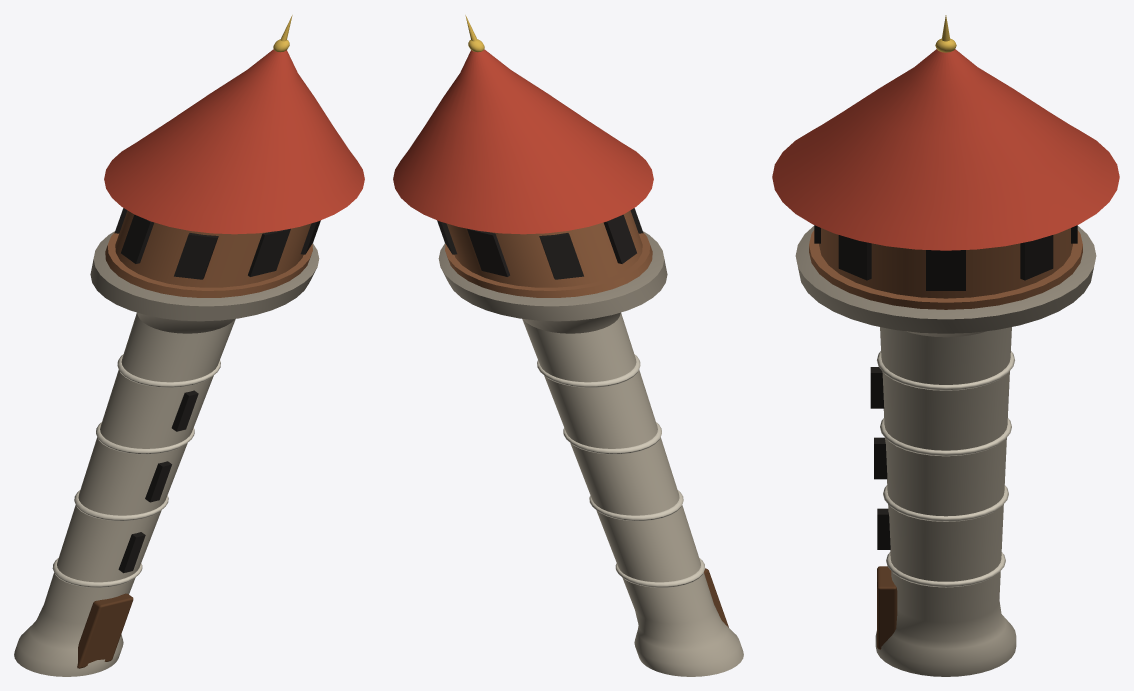
File: original.glb
The picture shows the model from 3 angles, left to right: view 1: azimuth 30°, elevation 25°; view 2: azimuth 150°, elevation 25°; view 3: azimuth 270°, elevation 25°; orthographic projection. The views are drawn at different scales.
Parts seen in each view (by area): view 1: Roof, Tower shaft, Timber belfry, Corbelled gallery, Belfry openings, Stone bands, Door, Arrow slits; view 2: Roof, Tower shaft, Timber belfry, Corbelled gallery, Belfry openings, Stone bands; view 3: Roof, Tower shaft, Timber belfry, Corbelled gallery, Belfry openings, Stone bands, Arrow slits, Door.
Boxes of the visible parts, x1=… form: Roof: x1=104, y1=49, x2=364, y2=234; Tower shaft: x1=14, y1=313, x2=235, y2=676; Timber belfry: x1=105, y1=210, x2=312, y2=297; Corbelled gallery: x1=90, y1=231, x2=319, y2=333; Belfry openings: x1=114, y1=208, x2=320, y2=279; Stone bands: x1=52, y1=354, x2=220, y2=587; Door: x1=77, y1=593, x2=133, y2=668; Arrow slits: x1=118, y1=390, x2=198, y2=573; Roof: x1=393, y1=49, x2=653, y2=234; Tower shaft: x1=522, y1=313, x2=743, y2=676; Timber belfry: x1=445, y1=210, x2=652, y2=297; Corbelled gallery: x1=438, y1=231, x2=667, y2=333; Belfry openings: x1=437, y1=208, x2=643, y2=279; Stone bands: x1=537, y1=354, x2=705, y2=587; Roof: x1=772, y1=49, x2=1119, y2=250; Tower shaft: x1=875, y1=327, x2=1016, y2=676; Timber belfry: x1=809, y1=228, x2=1082, y2=309; Corbelled gallery: x1=795, y1=226, x2=1096, y2=337; Belfry openings: x1=814, y1=225, x2=1077, y2=290; Stone bands: x1=877, y1=351, x2=1014, y2=587; Arrow slits: x1=870, y1=367, x2=890, y2=549; Door: x1=877, y1=566, x2=897, y2=649.
Bounding box in the file's own units: 9.39 × 16.1 × 6.5.
